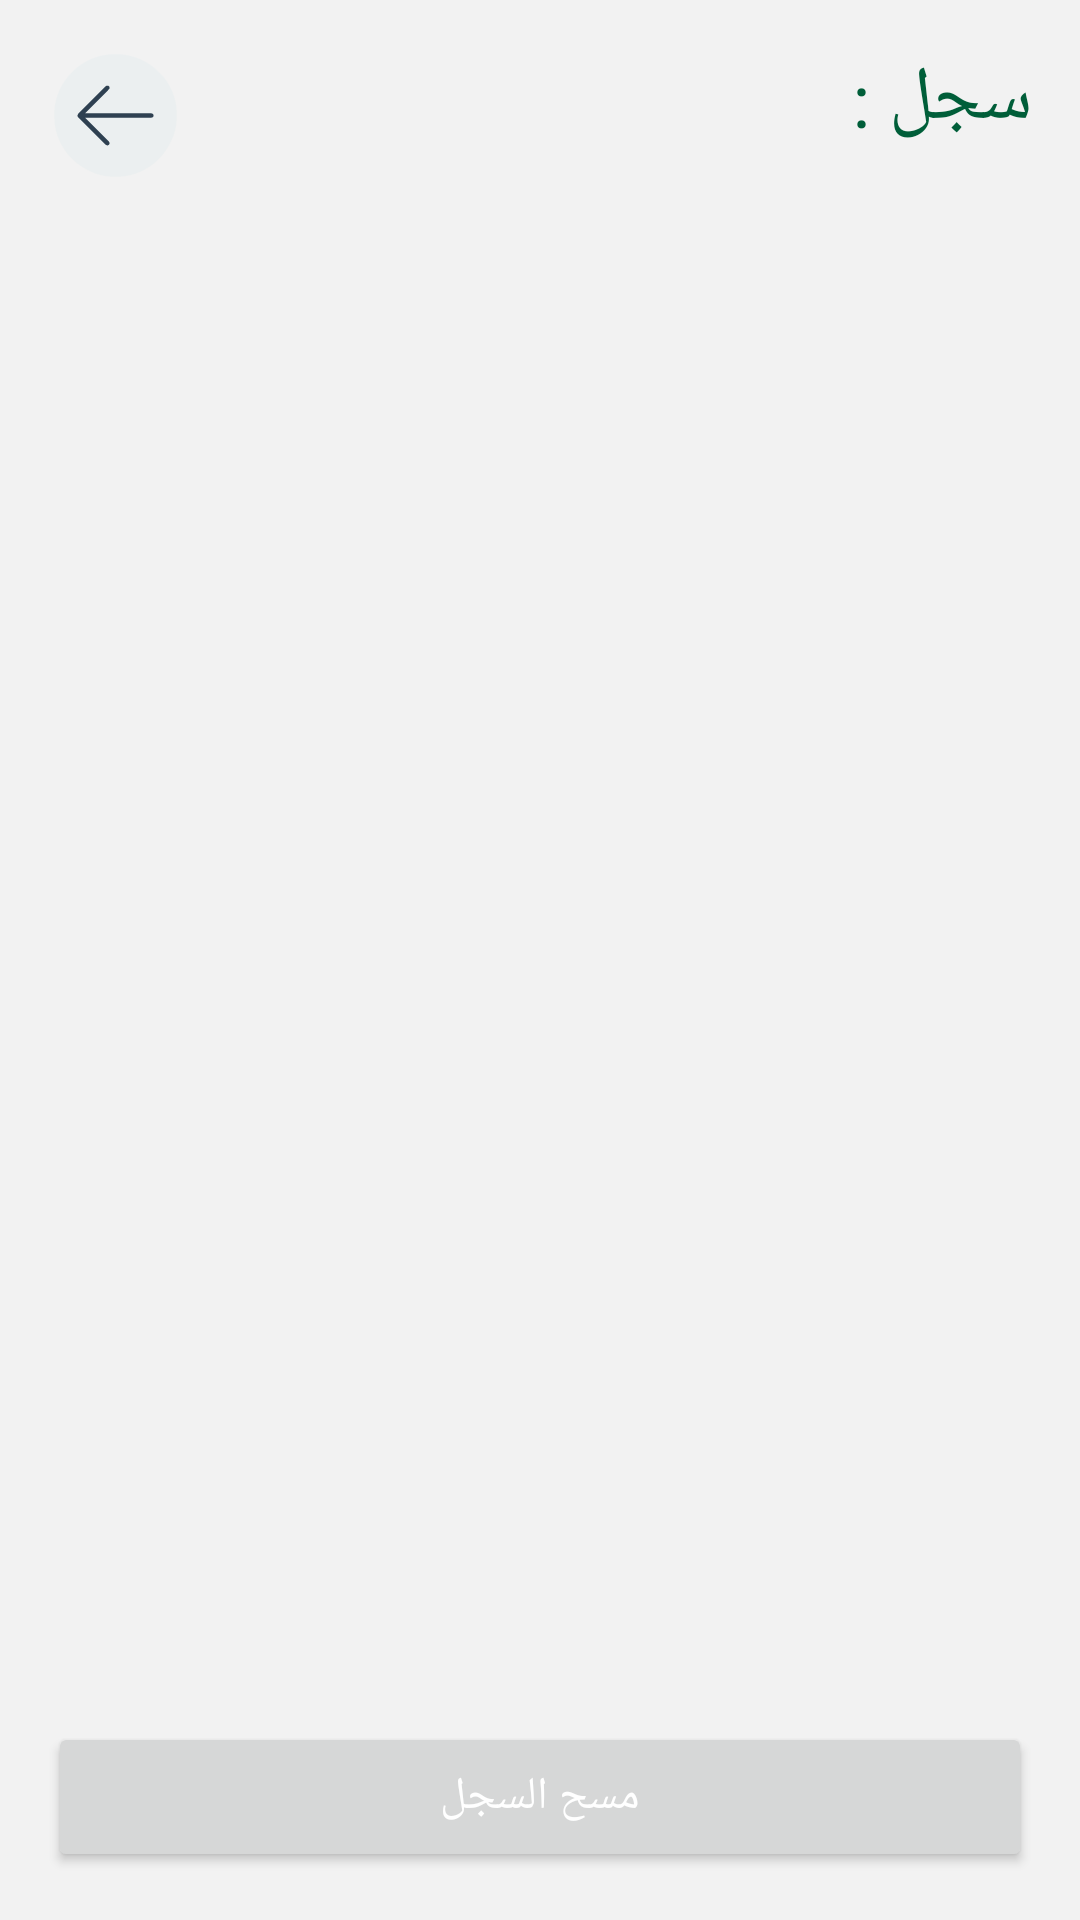

Named icons in this screenshot (1080*1920) and their centers, (x,y):
left arrow: (115,115)
